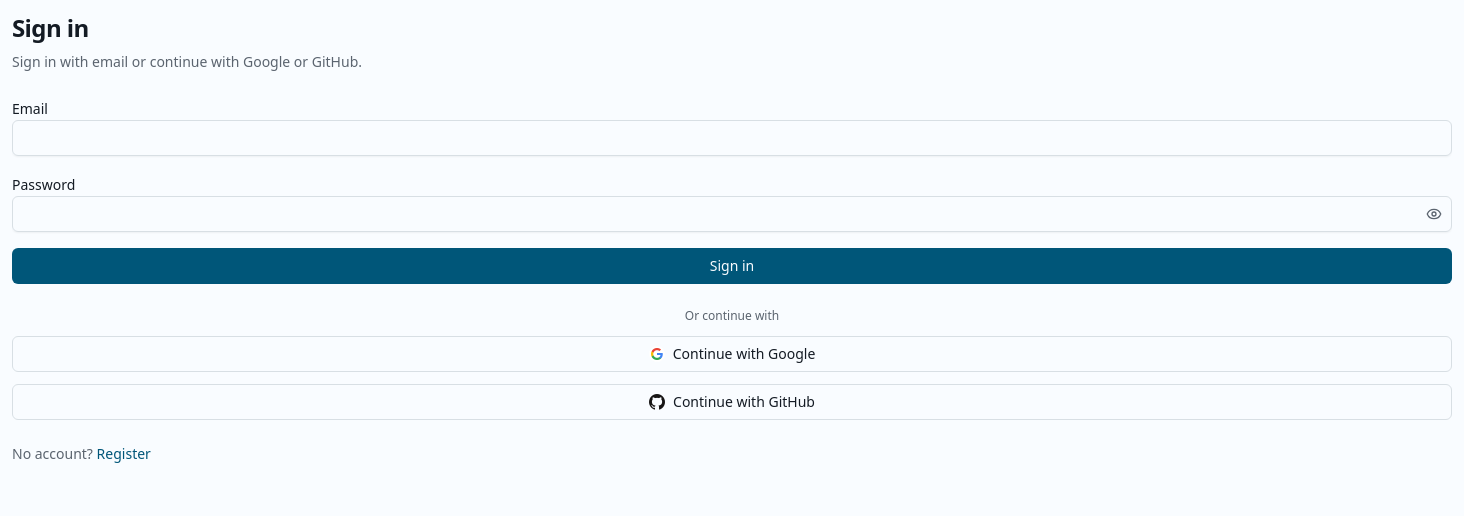
Scenario: LoginPage › surfaces auth 429 with Retry-After in an alert (not silent)
Type "a@example.com" into the field labelled "Email" at coordinates (732, 138), box [12,120,1452,156]
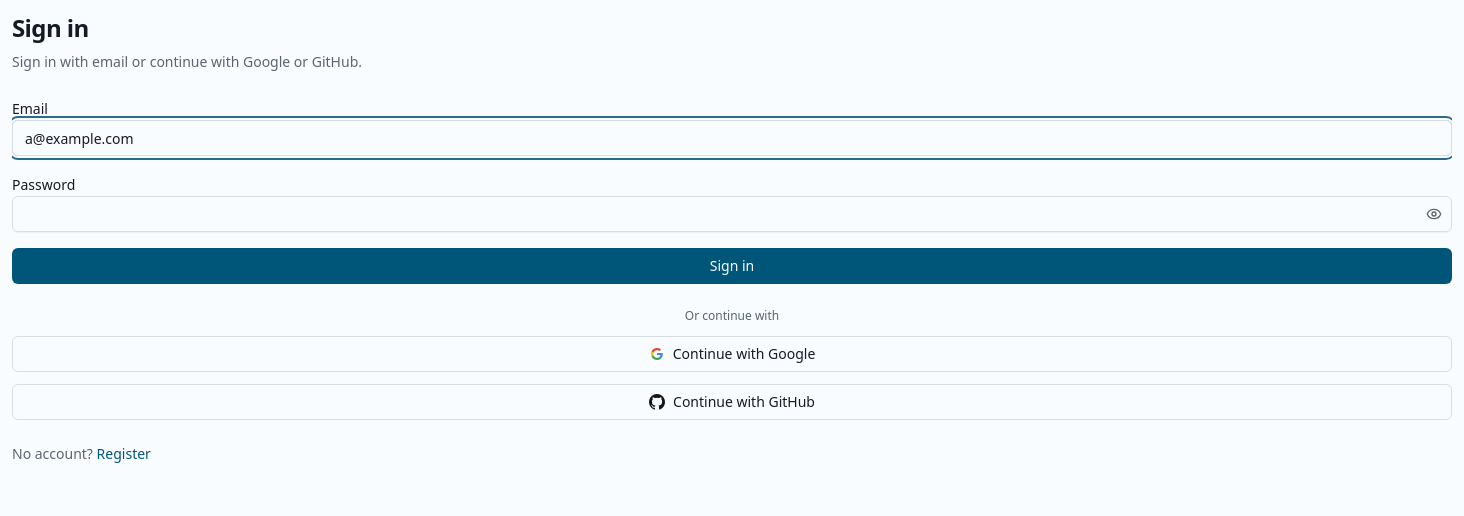
Type "SecurePass1!" into the password field labelled "Password" at coordinates (732, 214), box [12,196,1452,232]
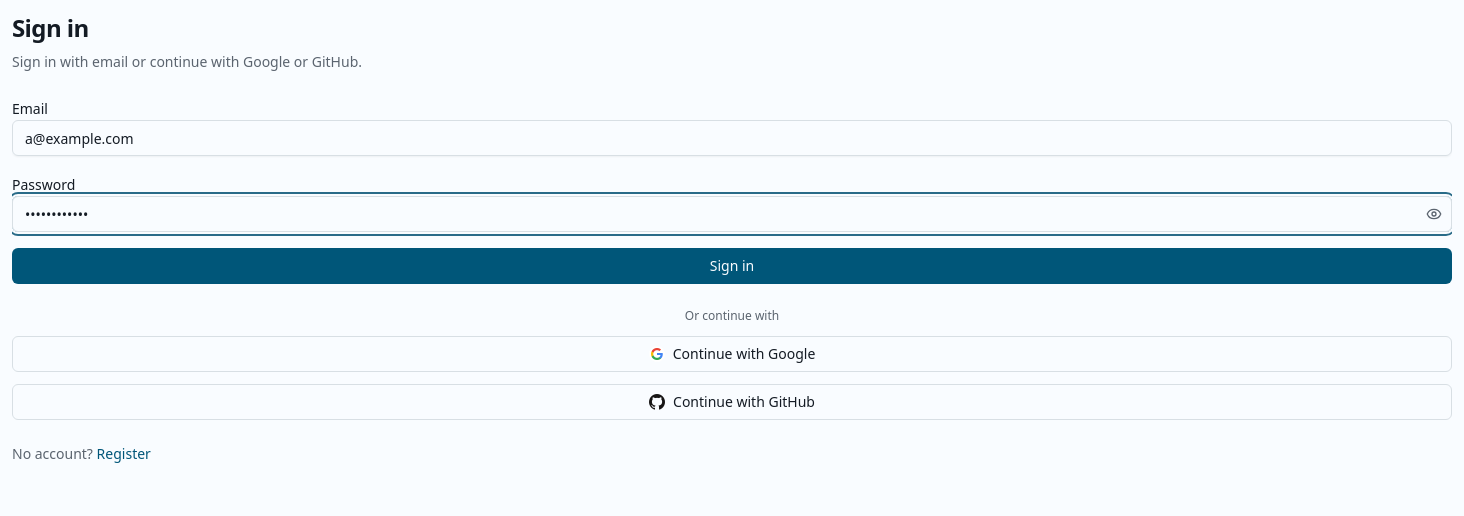
Click the button "Sign in" at coordinates (732, 266), box [12,248,1452,284]
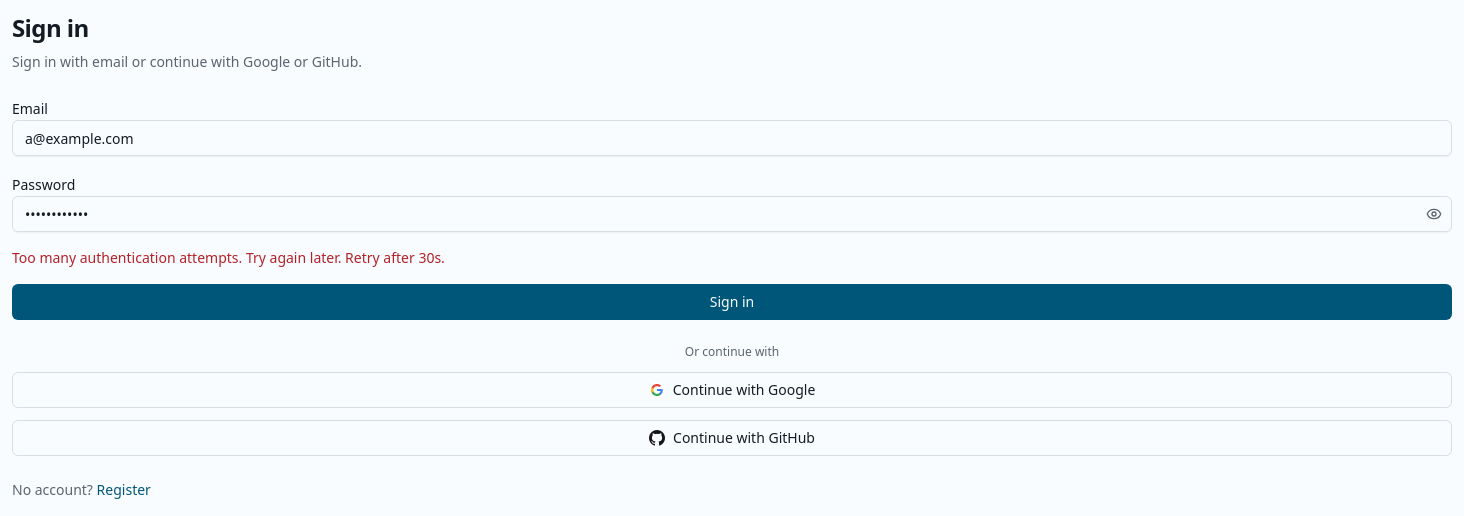
Expected: the message shows "Too many authentication attempts", [12,248,445,267]
Expected: the message shows "Retry after 30s", [12,248,445,267]
